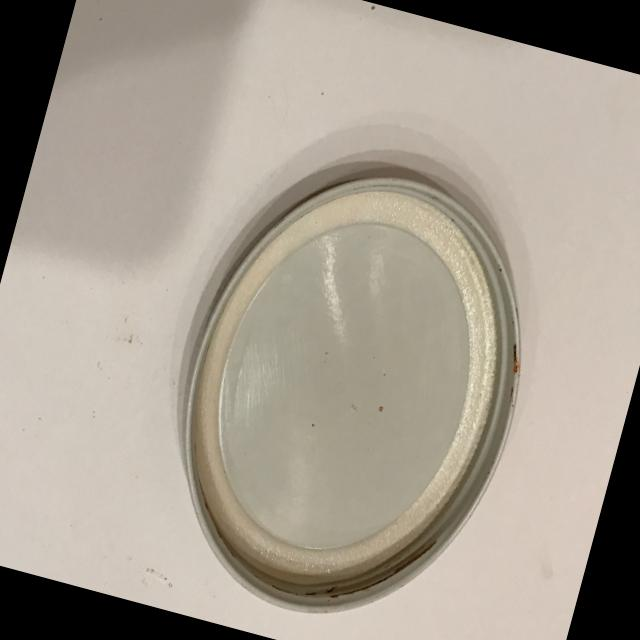Metal: (116, 117, 581, 640)
